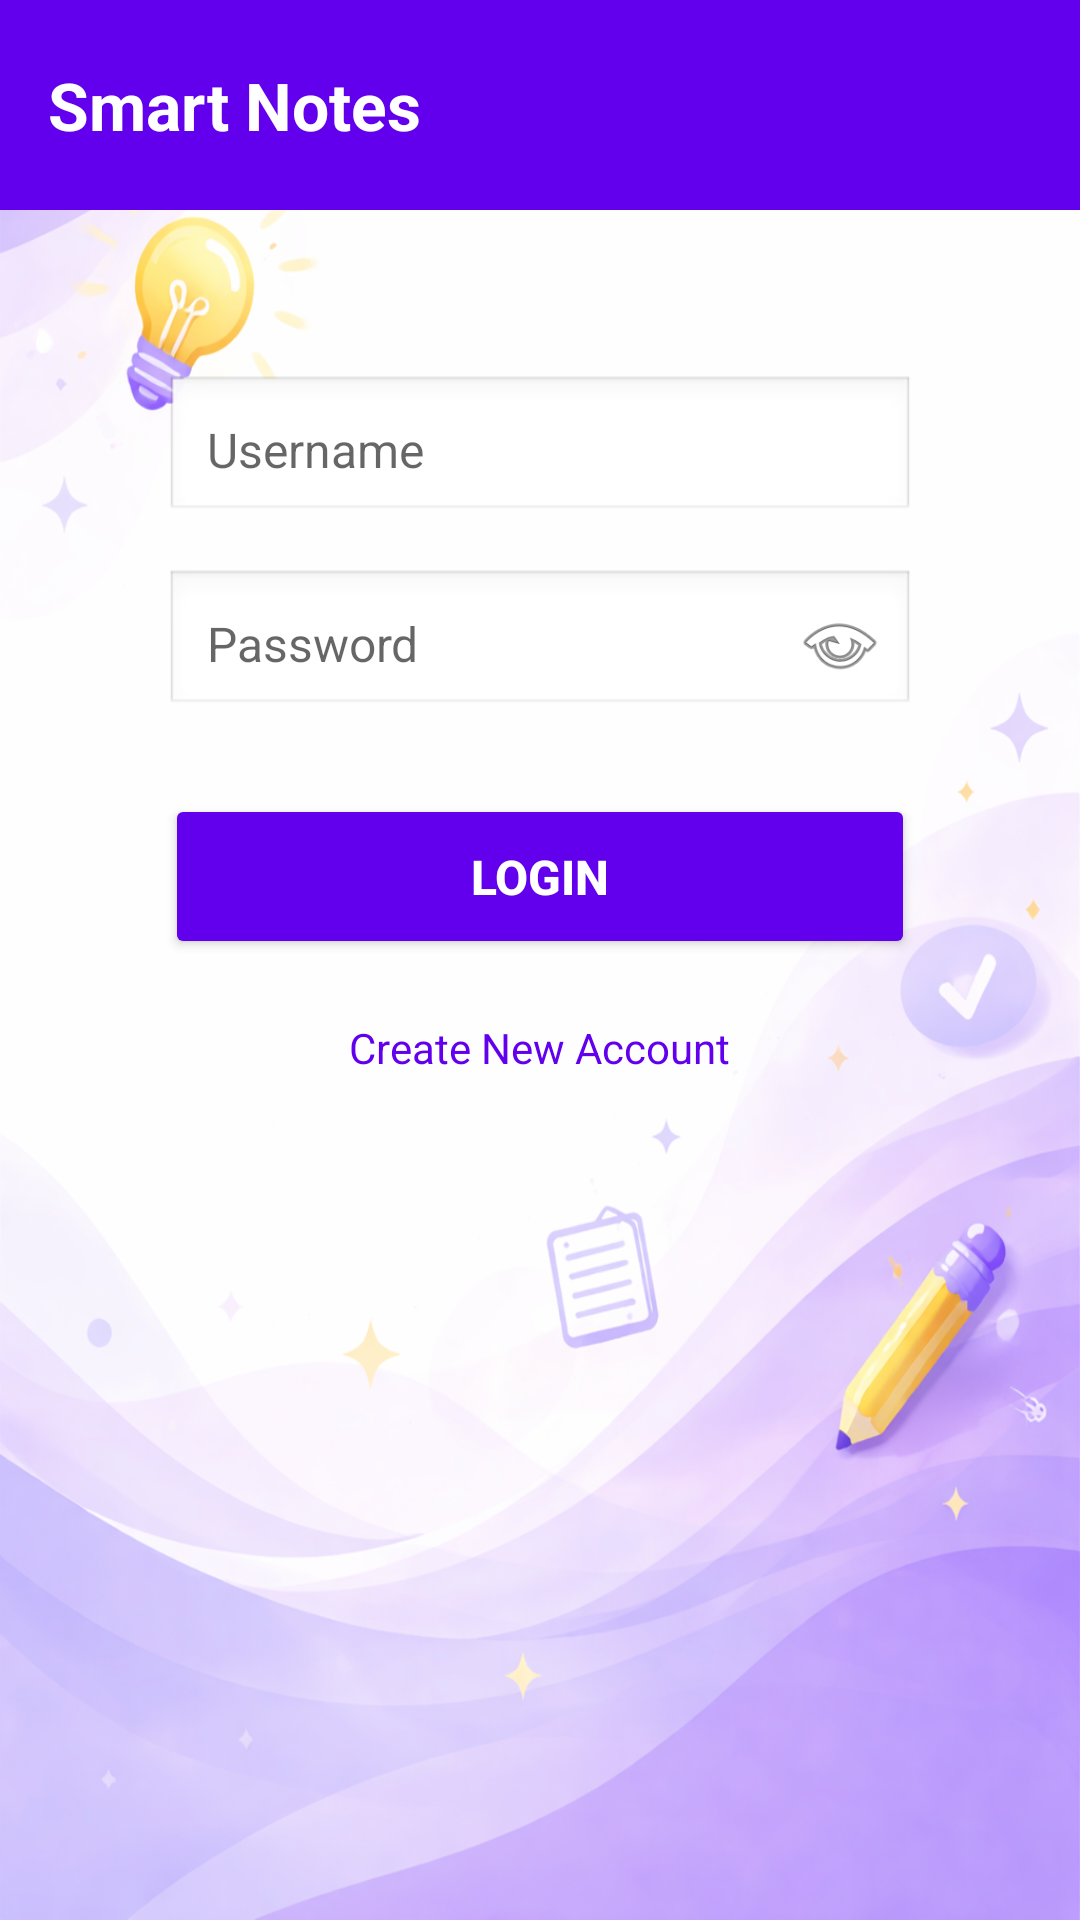

Point at icon controls on the screen. Image size 1080x1920, points as [x,y].
view: [840,646]
